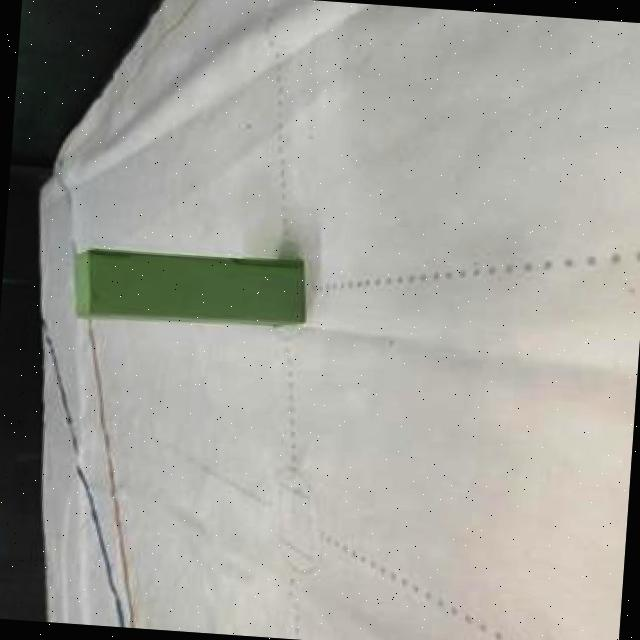greenbox: (71, 242, 308, 336)
